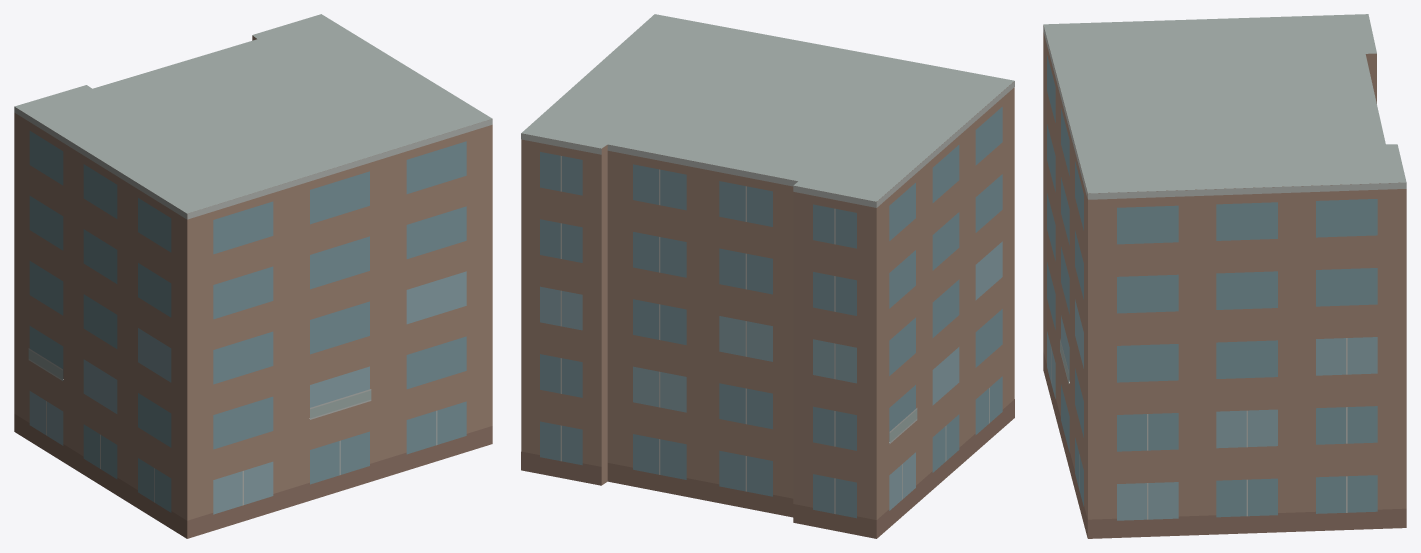
File: survey-upis-32464507.glb
The picture shows the model from 3 angles, left to right: view 1: azimuth 30°, elevation 25°; view 2: azimuth 150°, elevation 25°; view 3: azimuth 270°, elevation 25°; orthographic projection. The views are drawn at different scales.
Visible parts, largest first — view 1: survey-upis-32464507.tmp; view 2: survey-upis-32464507.tmp; view 3: survey-upis-32464507.tmp.
Part boxes in pixels (x1=…): survey-upis-32464507.tmp: x1=14, y1=14, x2=492, y2=538; survey-upis-32464507.tmp: x1=521, y1=14, x2=1014, y2=538; survey-upis-32464507.tmp: x1=1043, y1=14, x2=1406, y2=538.
Size of the model in its own units: 14.83 by 13.3 by 12.69.
